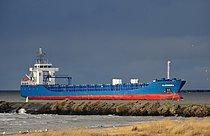Ship: (19, 46, 190, 102)
